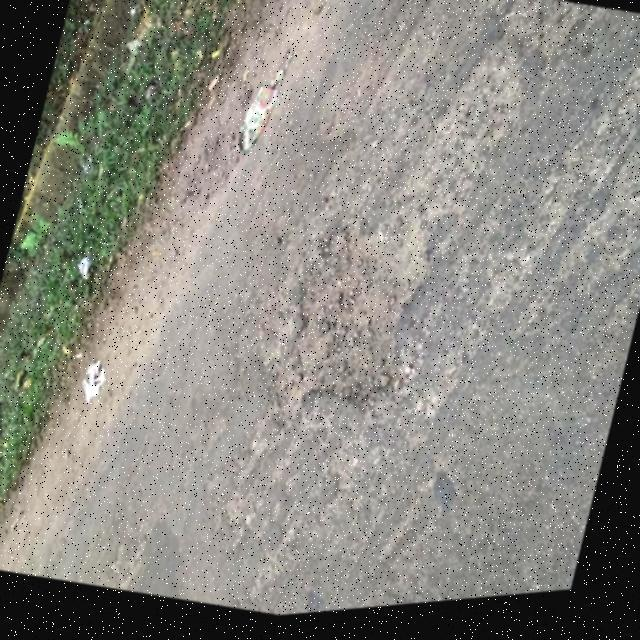pothole: (262, 188, 446, 454)
